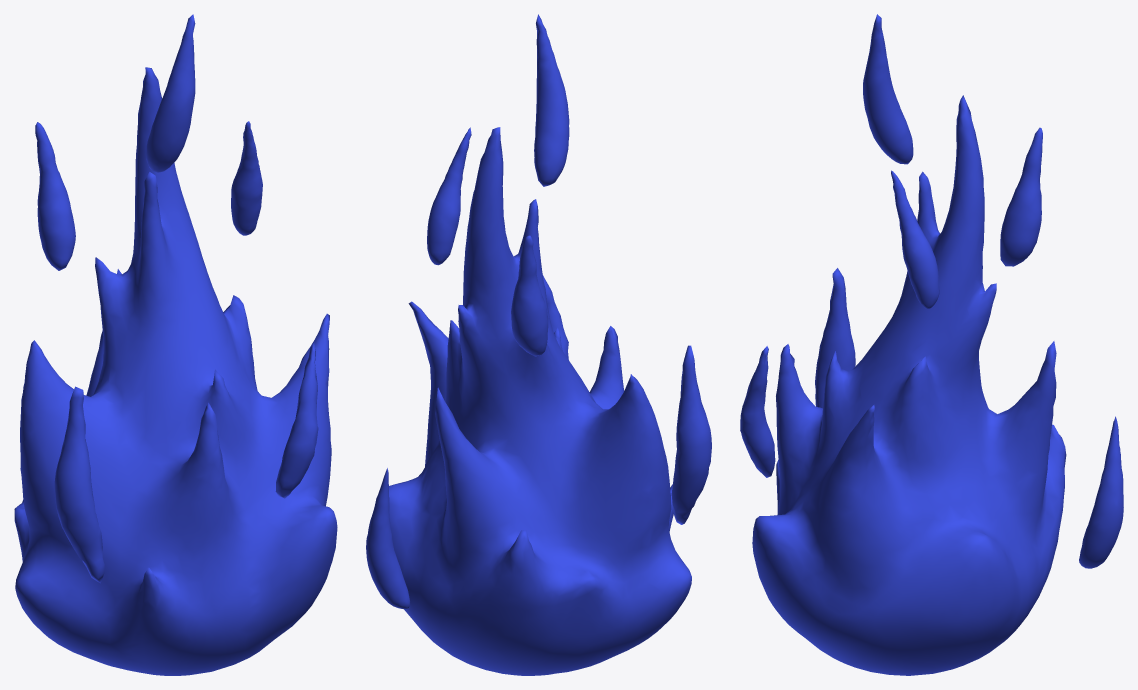
The model's file is bluefire.fbx.
The picture shows the model from 3 angles, left to right: view 1: azimuth 30°, elevation 25°; view 2: azimuth 150°, elevation 25°; view 3: azimuth 270°, elevation 25°; orthographic projection. The views are drawn at different scales.
Visible parts, largest first — view 1: fire big_8, Sphere.004_6, Sphere.003_5, Sphere.001_3, Sphere_2, Sphere.002_4; view 2: fire big_8, Sphere.004_6, Sphere.003_5, Sphere.005_7, Sphere.001_3, Sphere.002_4, Sphere_2; view 3: fire big_8, Sphere.003_5, Sphere.001_3, Sphere.005_7, Sphere.002_4, Sphere.004_6, Sphere_2.
Part boxes in pixels (left/top/right/bottom): fire big_8: left=14, top=67, right=337, bottom=675; Sphere.004_6: left=54, top=386, right=104, bottom=583; Sphere.003_5: left=146, top=14, right=195, bottom=172; Sphere.001_3: left=35, top=122, right=75, bottom=270; Sphere_2: left=275, top=343, right=318, bottom=498; Sphere.002_4: left=231, top=121, right=262, bottom=235; fire big_8: left=389, top=127, right=691, bottom=675; Sphere.004_6: left=671, top=345, right=711, bottom=524; Sphere.003_5: left=534, top=14, right=569, bottom=186; Sphere.005_7: left=366, top=468, right=409, bottom=609; Sphere.001_3: left=511, top=235, right=548, bottom=356; Sphere.002_4: left=427, top=127, right=471, bottom=265; Sphere_2: left=542, top=275, right=568, bottom=359; fire big_8: left=752, top=95, right=1066, bottom=675; Sphere.003_5: left=863, top=14, right=913, bottom=164; Sphere.001_3: left=1000, top=127, right=1042, bottom=266; Sphere.005_7: left=1079, top=416, right=1123, bottom=568; Sphere.002_4: left=891, top=170, right=939, bottom=309; Sphere.004_6: left=815, top=268, right=855, bottom=408; Sphere_2: left=740, top=346, right=775, bottom=477.
Size of the model in its own units: 354 by 737 by 395.
